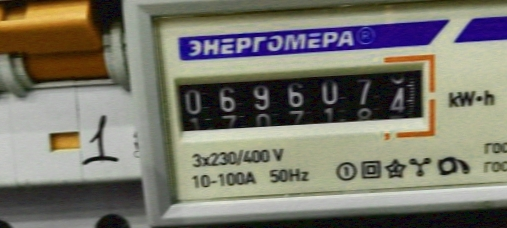0: (182, 87, 203, 117), (318, 79, 338, 107)
4: (386, 87, 406, 116)
6: (216, 87, 236, 115), (285, 81, 304, 110)
7: (353, 77, 373, 108)
9: (250, 85, 270, 114)
screen: (160, 51, 443, 154)
